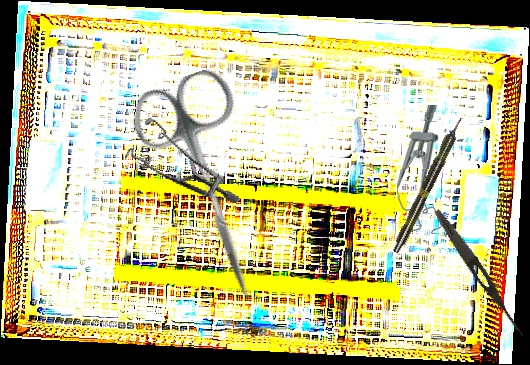Dressing Forceps: (430, 206, 530, 340)
Handpiece: (389, 114, 468, 256)
Iris Scissors: (122, 63, 300, 314)
Speculum: (115, 97, 241, 236), (395, 103, 446, 235)
